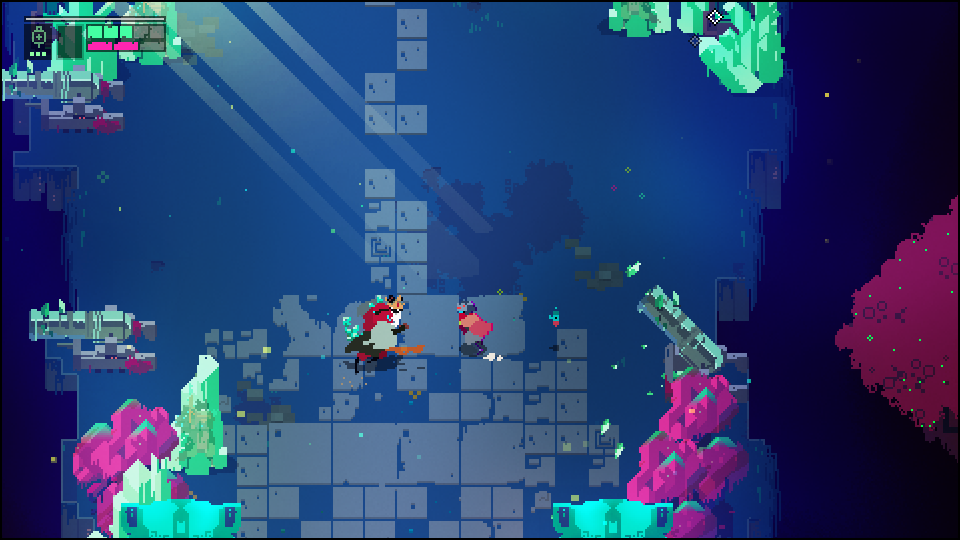hanged_man: (339, 292, 413, 361)
player: (452, 299, 498, 358)
